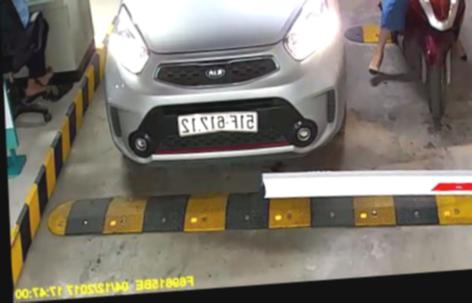License_Plate: (178, 106, 259, 140)
